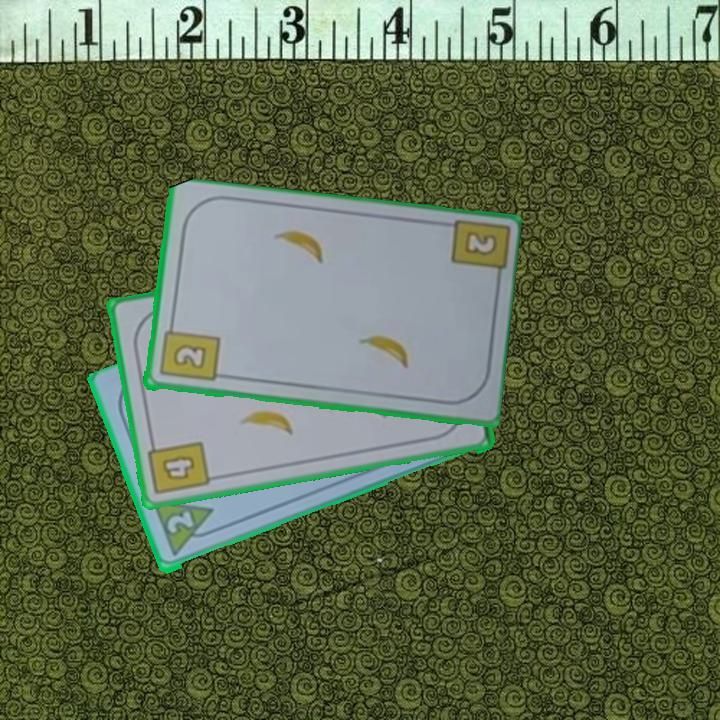2b: (156, 318, 221, 385), (460, 228, 497, 258)
2p: (162, 508, 197, 537)
4b: (145, 434, 213, 499)
